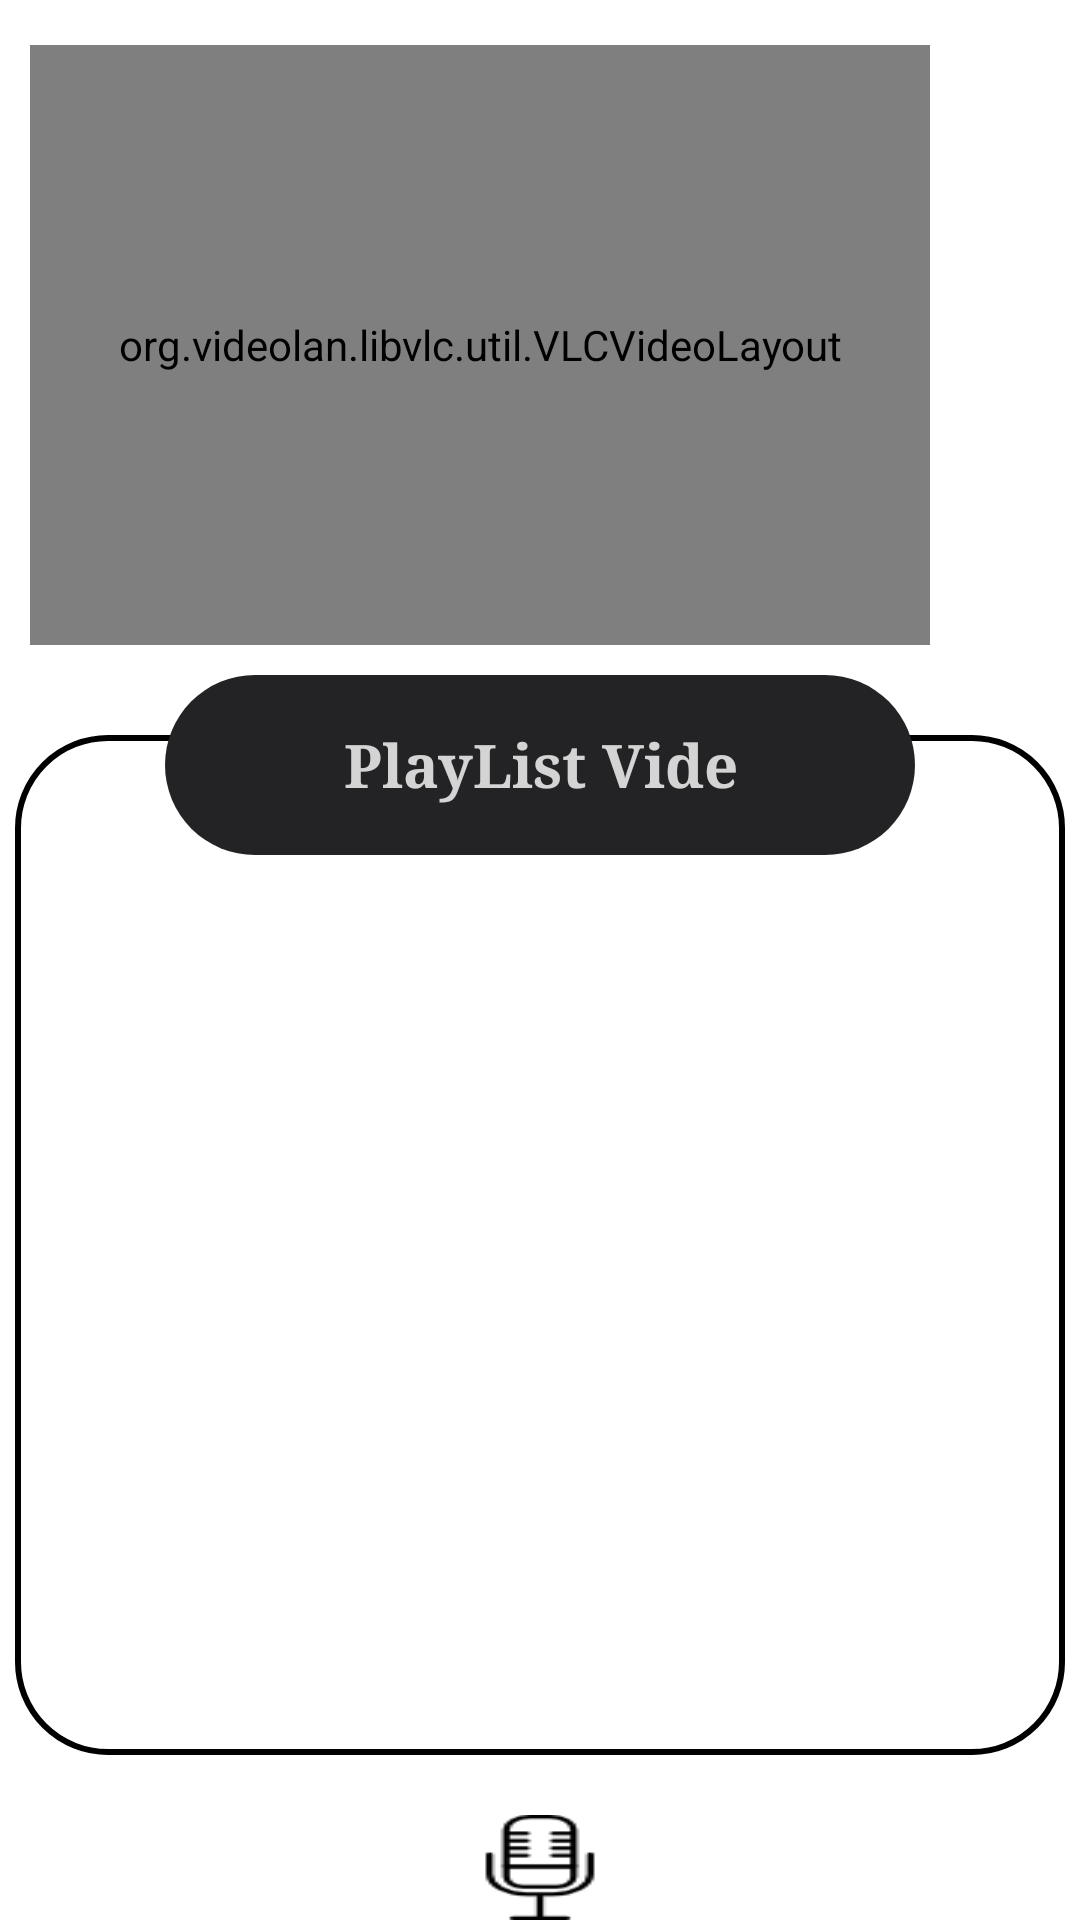

Where to tap for icons on this 1080px×1920px app screen, as point (x, y):
mic: point (540, 1867)
